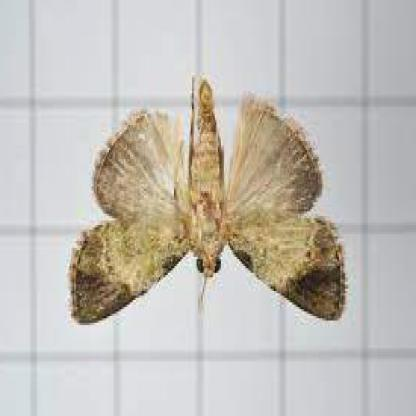Leaf Webber: (66, 74, 345, 335)
